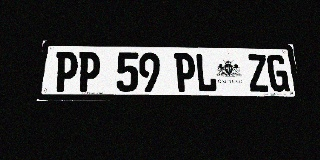5: (117, 52, 138, 92)
9: (139, 53, 160, 92)
G: (266, 54, 290, 92)
L: (195, 53, 217, 92)
P: (53, 51, 79, 92), (77, 52, 101, 92), (174, 53, 196, 92)
Z: (246, 54, 270, 92)
